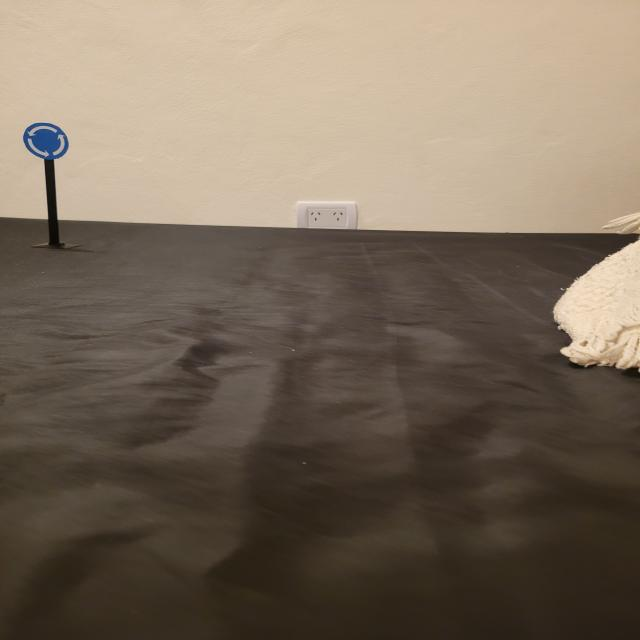round_about: (22, 122, 71, 160)
